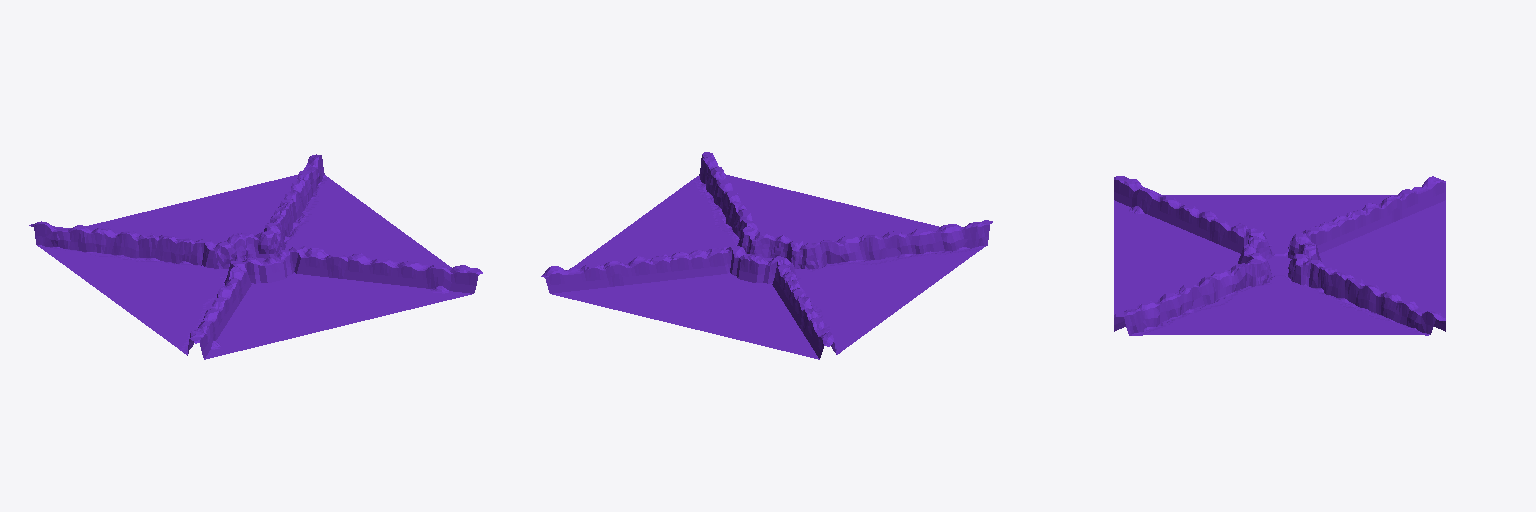
File: Map_v1_Wall2.obj
3 renders of one model, left to right at view 1: azimuth 30°, elevation 25°; view 2: azimuth 150°, elevation 25°; view 3: azimuth 270°, elevation 25°, orthographic.
Parts seen in each view (by area): view 1: Wall2_평면.003; view 2: Wall2_평면.003; view 3: Wall2_평면.003.
Boxes of the visible parts, x1,y1,x2,y2 form: Wall2_평면.003: [29, 154, 482, 359]; Wall2_평면.003: [541, 152, 992, 359]; Wall2_평면.003: [1114, 176, 1445, 335].
Bounding box in the file's own units: 1.92 × 0.1431 × 1.92.